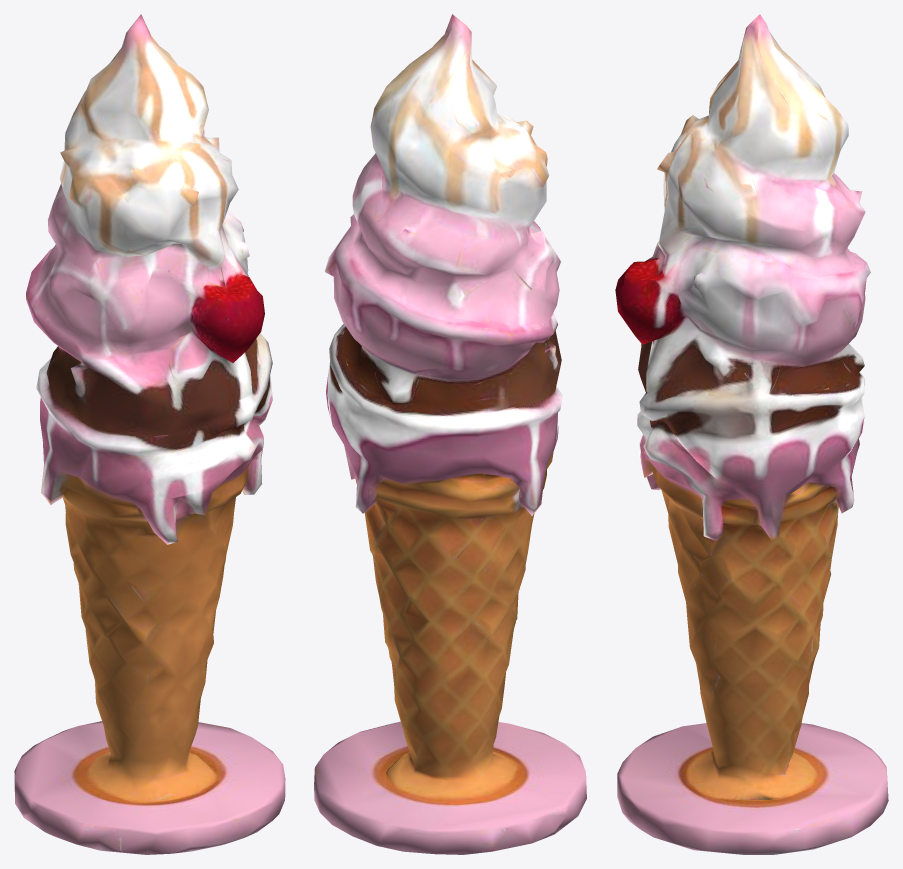
File: icecream_pillar.glb
3 views of the same model, side by side, from view 1: azimuth 30°, elevation 25°; view 2: azimuth 150°, elevation 25°; view 3: azimuth 270°, elevation 25° (orthographic).
Parts seen in each view (by area): view 1: Mesh_0; view 2: Mesh_0; view 3: Mesh_0.
Boxes of the visible parts, x1=… form: Mesh_0: x1=14, y1=14, x2=285, y2=854; Mesh_0: x1=314, y1=14, x2=586, y2=854; Mesh_0: x1=615, y1=14, x2=888, y2=854.
Size of the model in its own units: 0.6016 by 1.92 by 0.606.
Materials: 1 (1 with a texture image).
